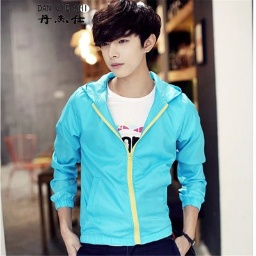face: (91, 1, 161, 76)
